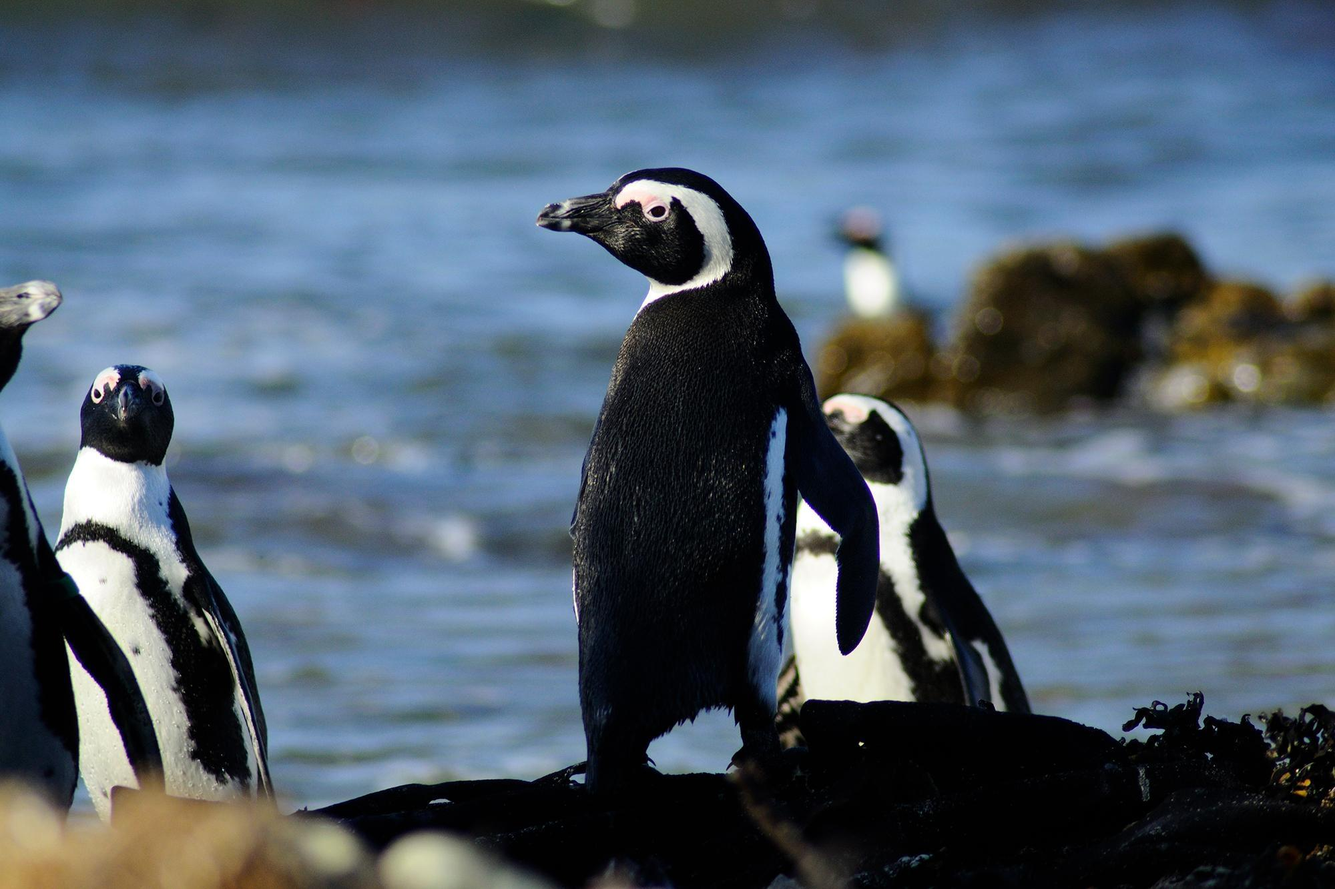Penguin: (537, 169, 878, 792), (55, 365, 274, 822), (777, 393, 1029, 748), (0, 277, 165, 814)
